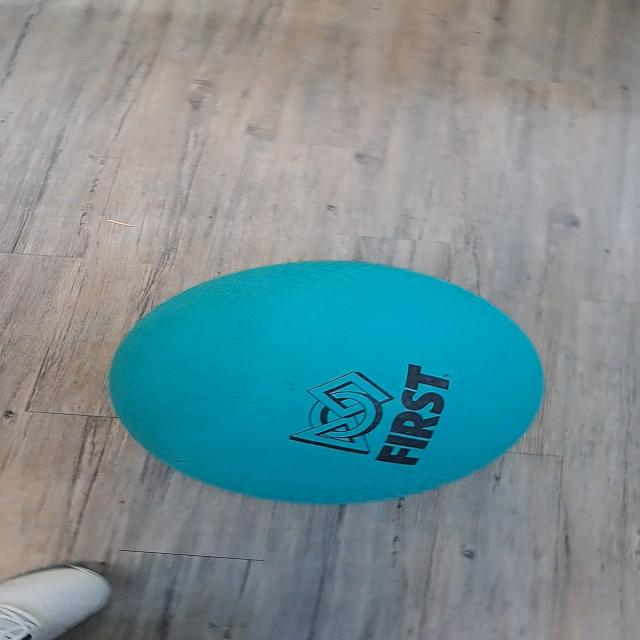ALGAE: (105, 258, 547, 506)
